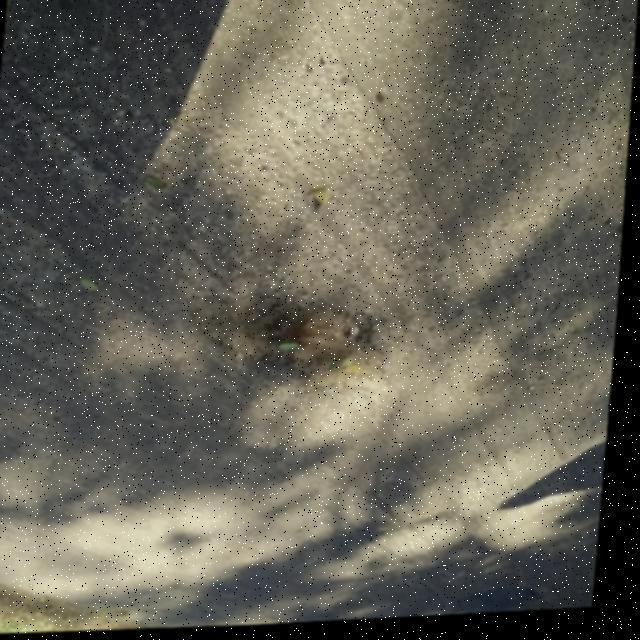pothole: (213, 286, 428, 424)
